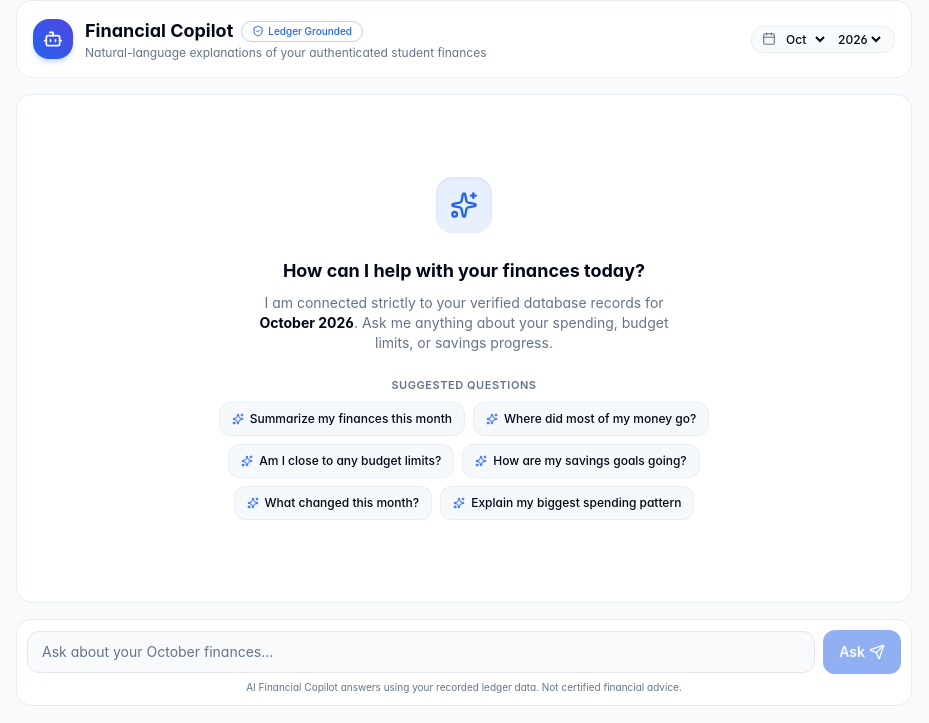
Test: AI Financial Copilot (Phase 7) › 3. Submits a suggested prompt on click and renders user message + AI response
The image size is (929, 723).
Click the button "Where did most of my money go?" at [591, 419], box [473,402,709,436]
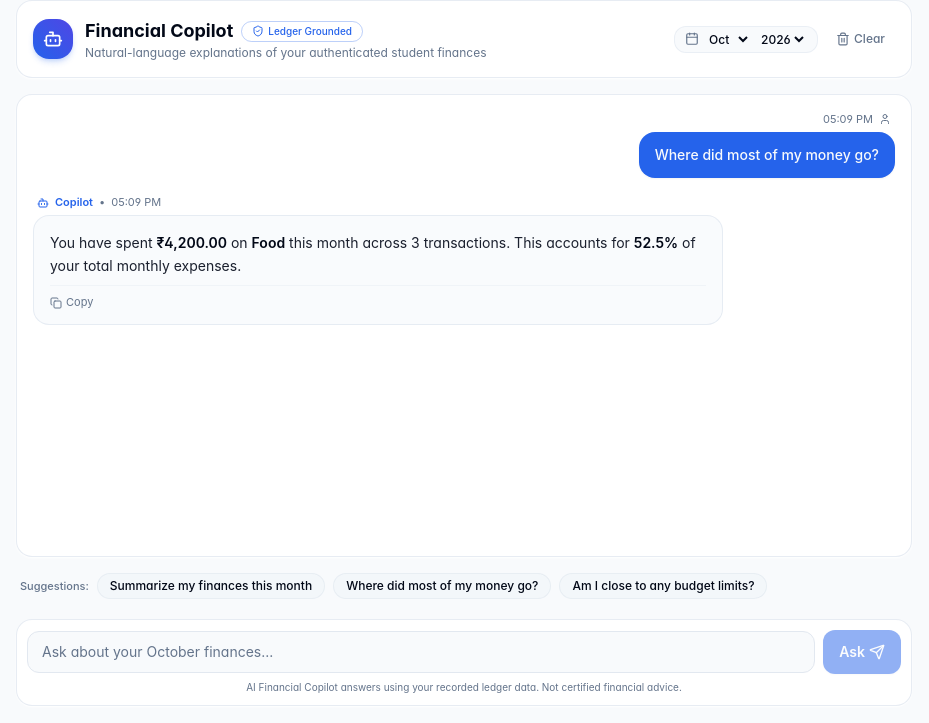
Expected: the text "Where did most of my money go?" is shown, [655,144,879,166]
Expected: the text "You have spent" is shown, [50,234,156,251]
Expected: the text "₹4,200.00" is shown, [156,234,227,251]
